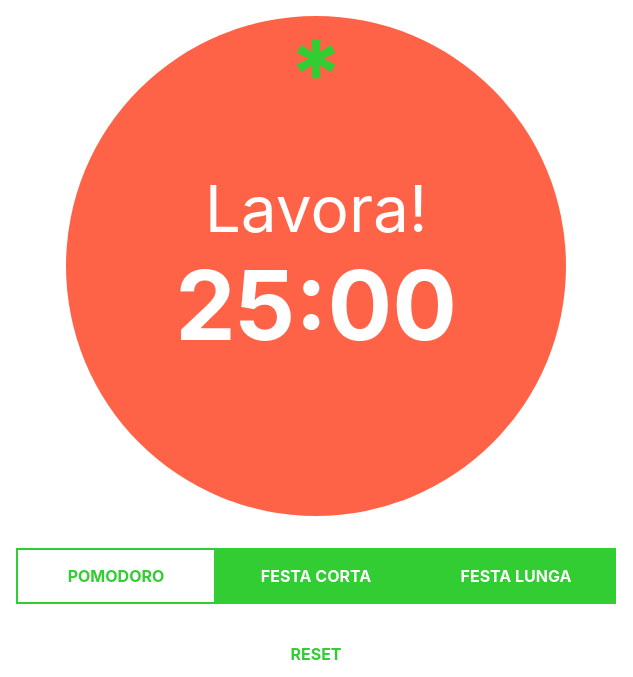
it: App › long break button shows 15 minutes
What coordinates should you click on to do the following:
click the button "Festa lunga"
I would click on:
 (516, 576)
Its box is [416,548,616,604].
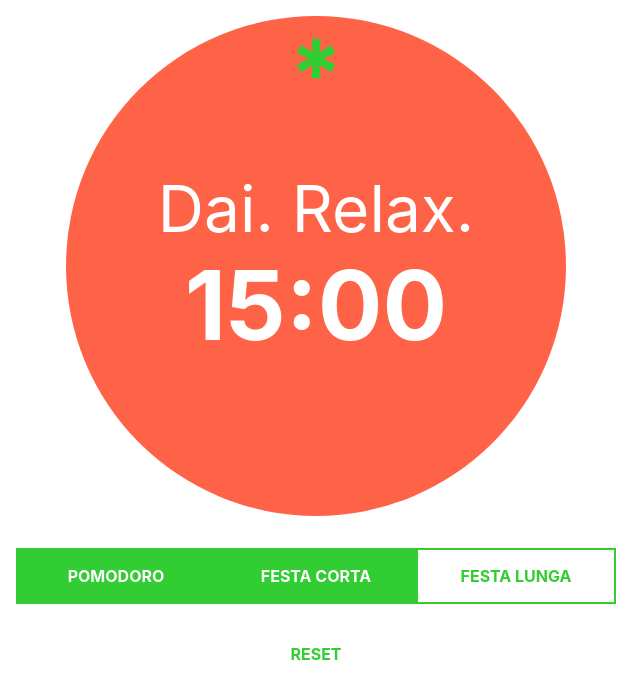
Now the button with test id "tomato-button" shows "Dai. Relax", box [66,16,566,516]
Now the button with test id "tomato-button" shows "15:00", box [66,16,566,516]
